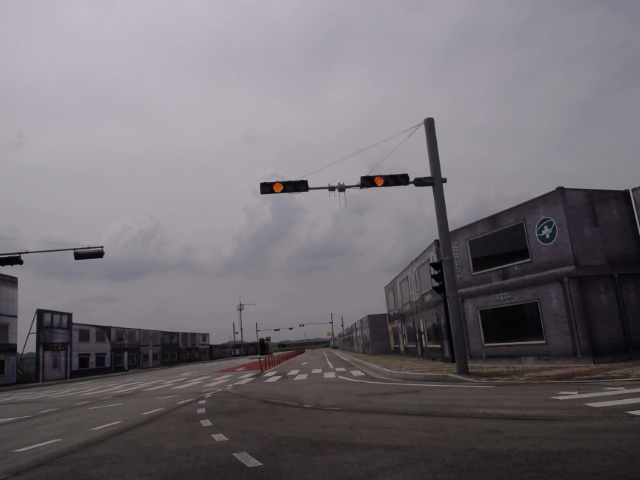orange_4: (357, 173, 411, 189), (259, 180, 308, 195)
